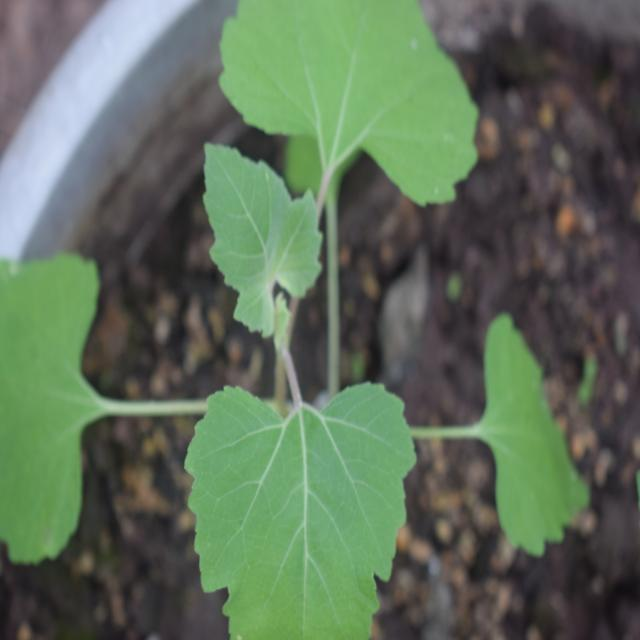cocklebur: (9, 53, 538, 588)
